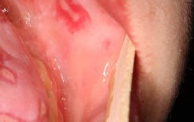SJS-TEN: (49, 0, 95, 37), (0, 44, 18, 85)
